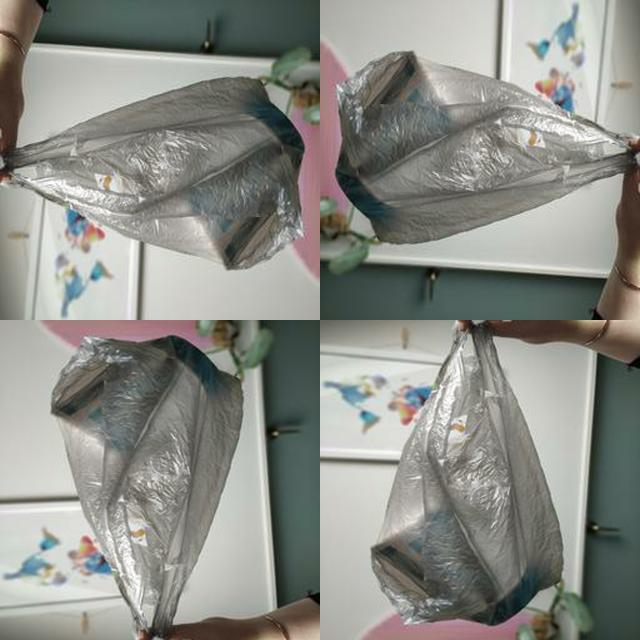Single-layer Plastic: (336, 51, 638, 244), (2, 78, 304, 269), (51, 336, 241, 639), (371, 325, 562, 625)
